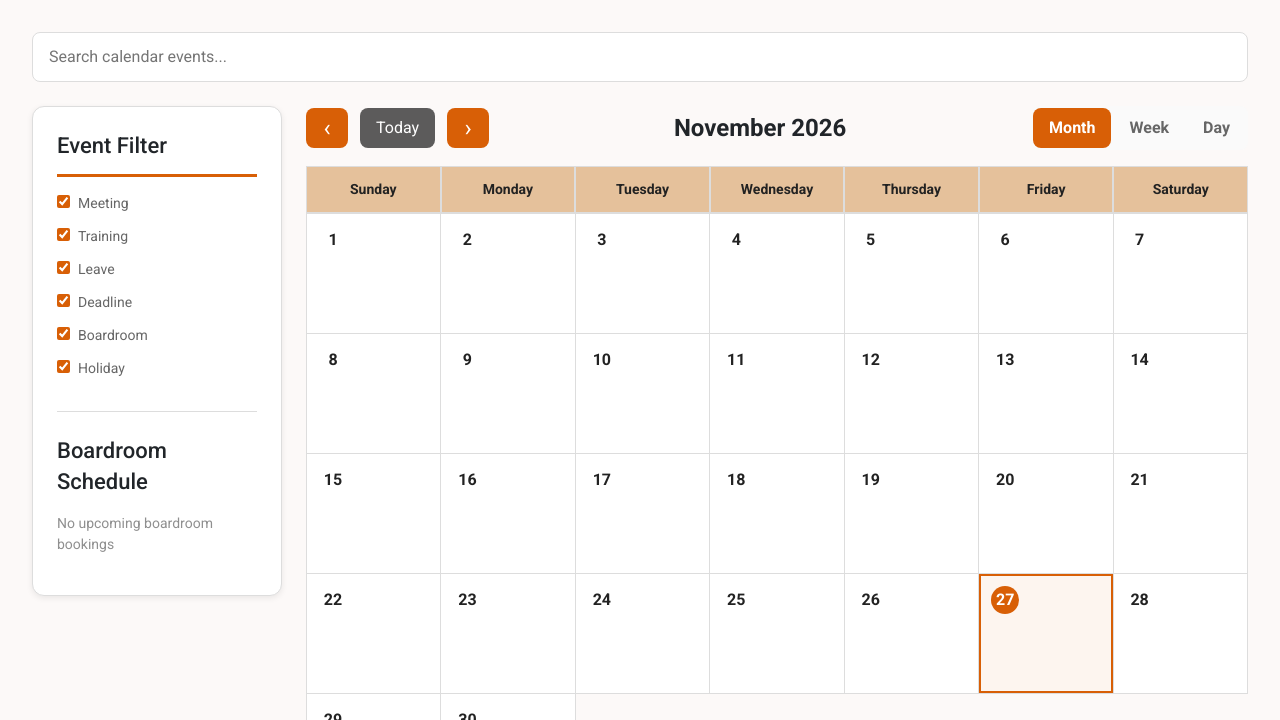
Test case: Calendar - day events modal › closes an open modal when clicking the overlay outside it
The width and height of the screenshot is (1280, 720).
Step 1. Click the element with class "date-number" → click(912, 274), box 845,214 -> 979,334
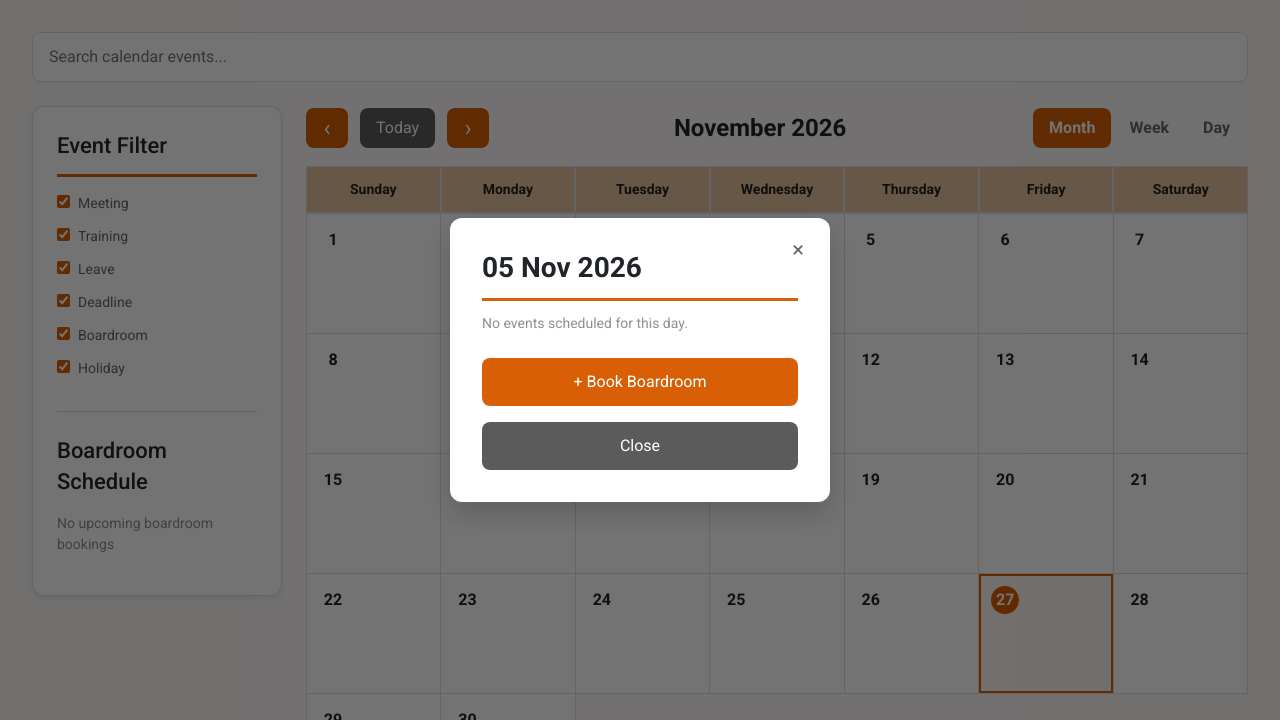
Expected: the text "No events scheduled for this day." is shown, 482,315 -> 688,331
Step 2. Click the element with class "calendar-modal-overlay" → click(77, 360), box 0,0 -> 1279,719
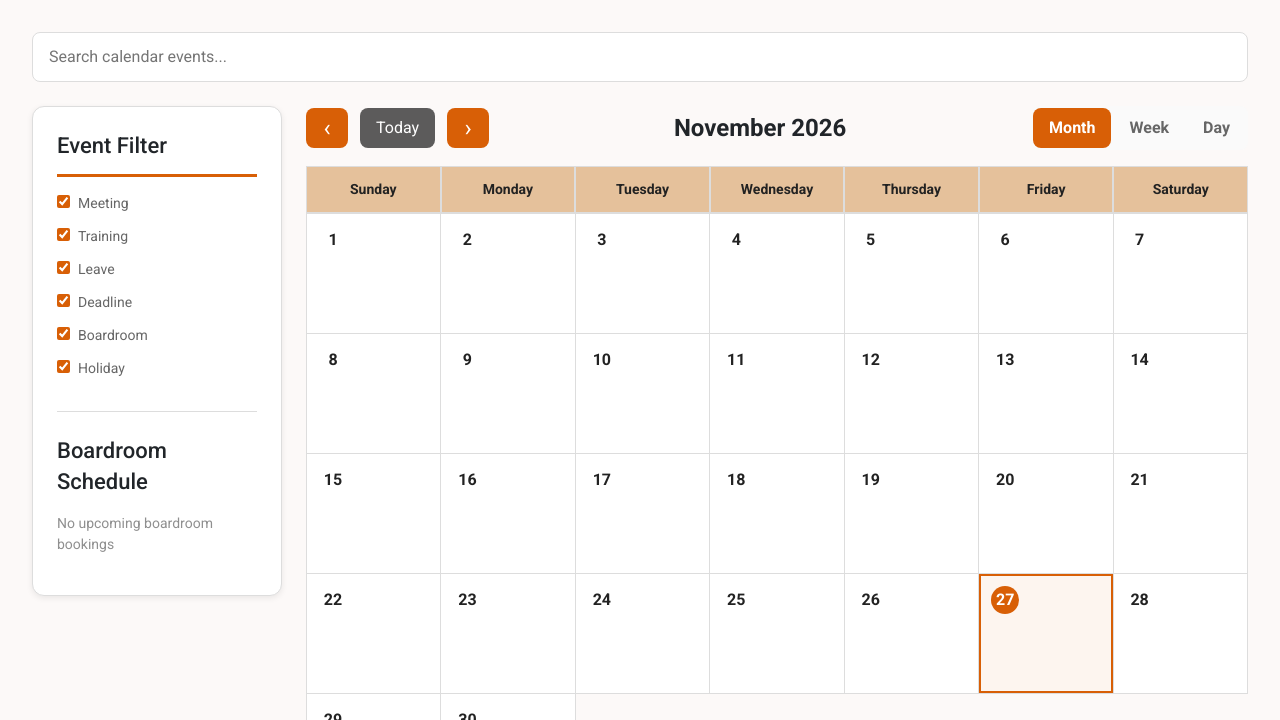
Expected: the text "No events scheduled" is gone
